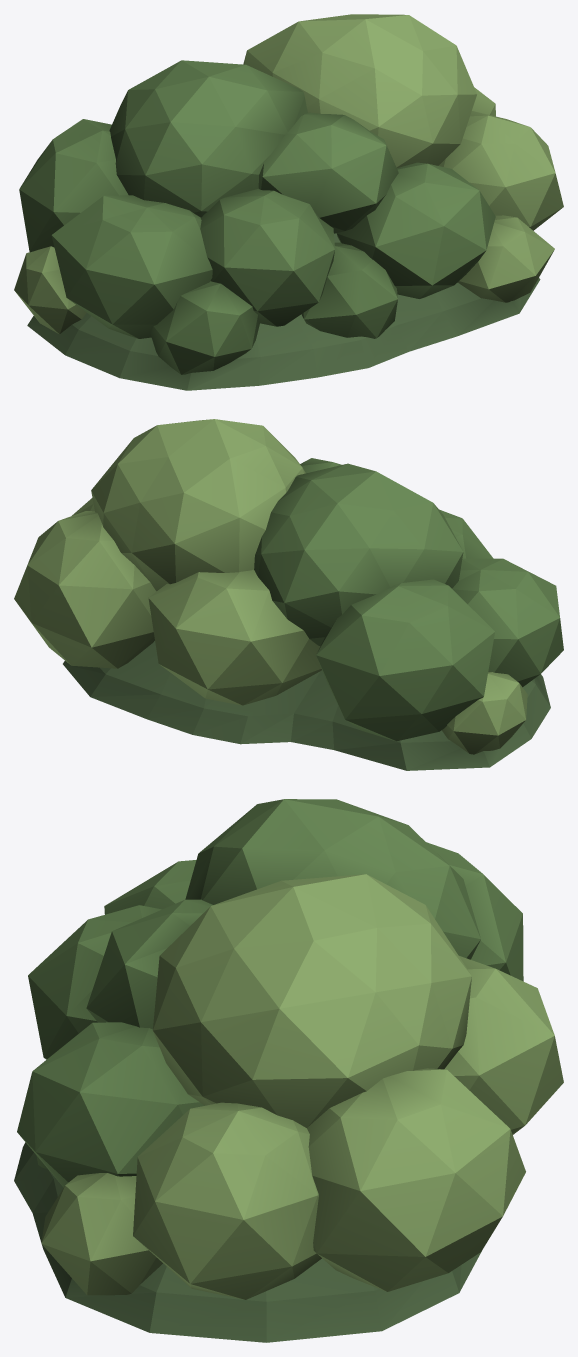
The model's file is rbush.glb.
The picture shows the model from 3 angles, top to bottom: view 1: azimuth 30°, elevation 25°; view 2: azimuth 150°, elevation 25°; view 3: azimuth 270°, elevation 25°; orthographic projection. The views are drawn at different scales.
Parts seen in each view (by area): view 1: rbush; view 2: rbush; view 3: rbush.
Boxes of the visible parts, box(x1,y1,x2,y2) form: rbush: box(14, 14, 563, 390); rbush: box(14, 419, 563, 770); rbush: box(14, 799, 563, 1342).
Size of the model in its own units: 2.41 by 1.19 by 1.65.
